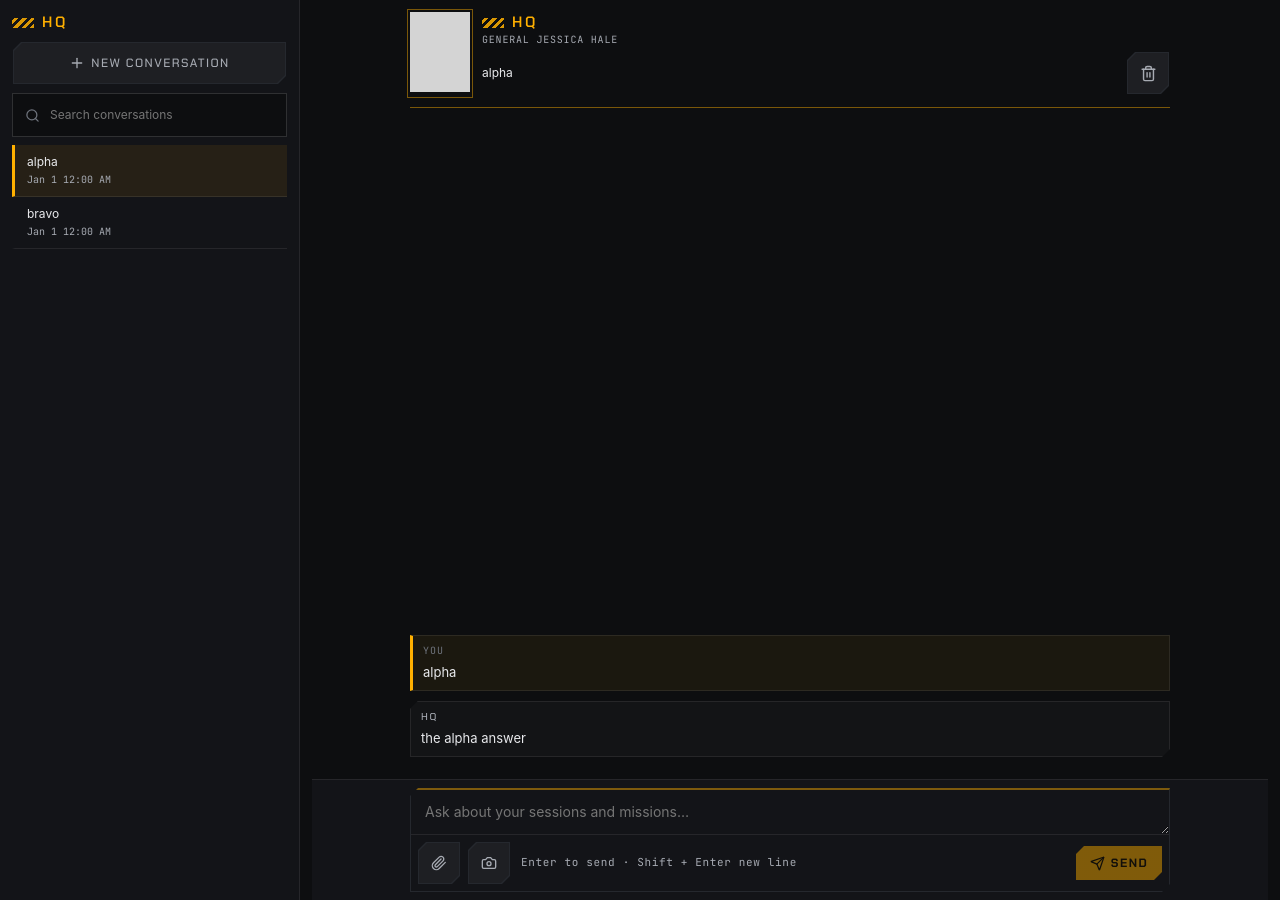
it: unsent text stays with its conversation: a pick, New and coming back never carry it across
Expected: the text "the alpha answer" is shown, [421,730,526,746]
In the text box with test id "composer-input": (790, 812) [411,790,1169,834], type "private draft for alpha"
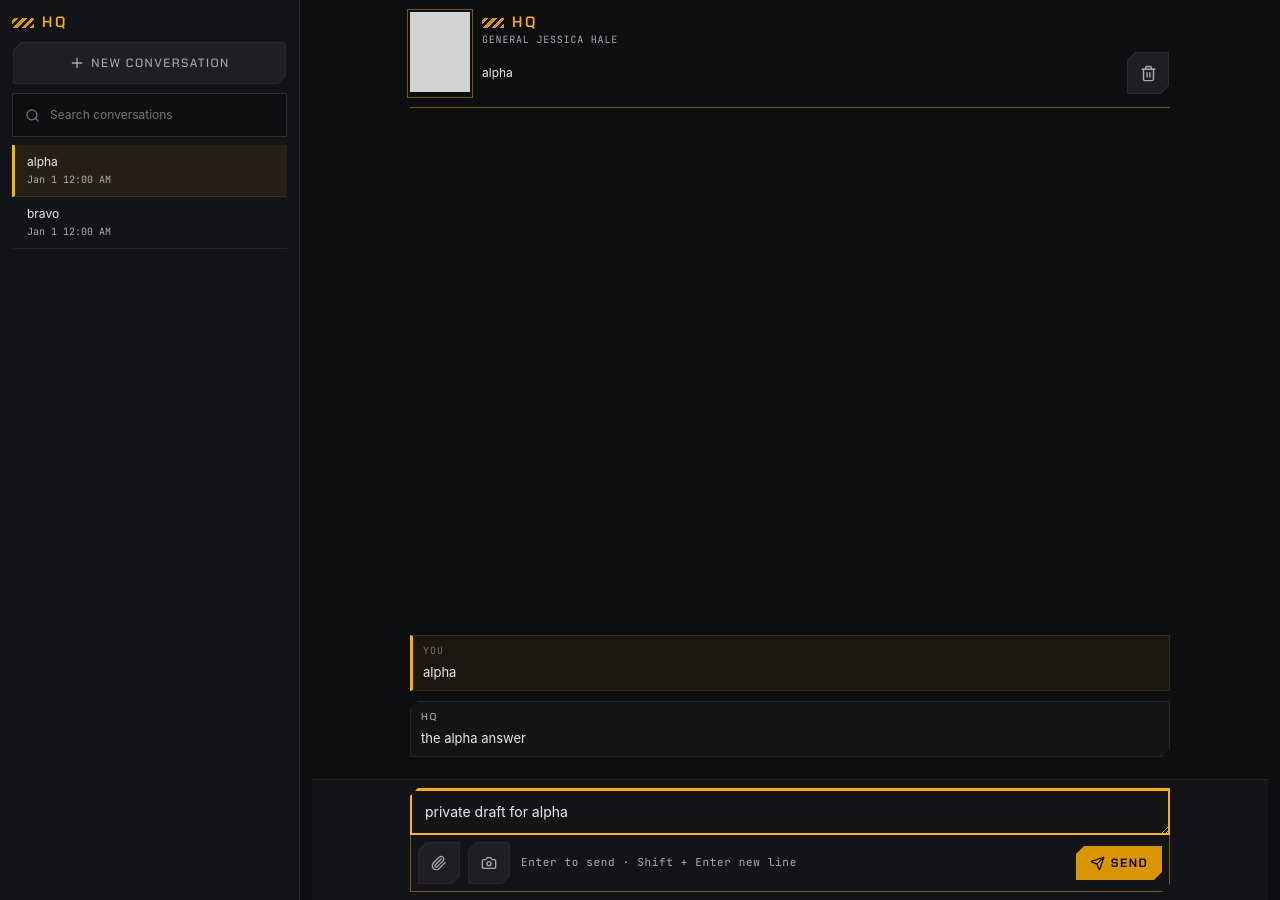
Click the text "bravo": (43, 214) [27,206,59,221]
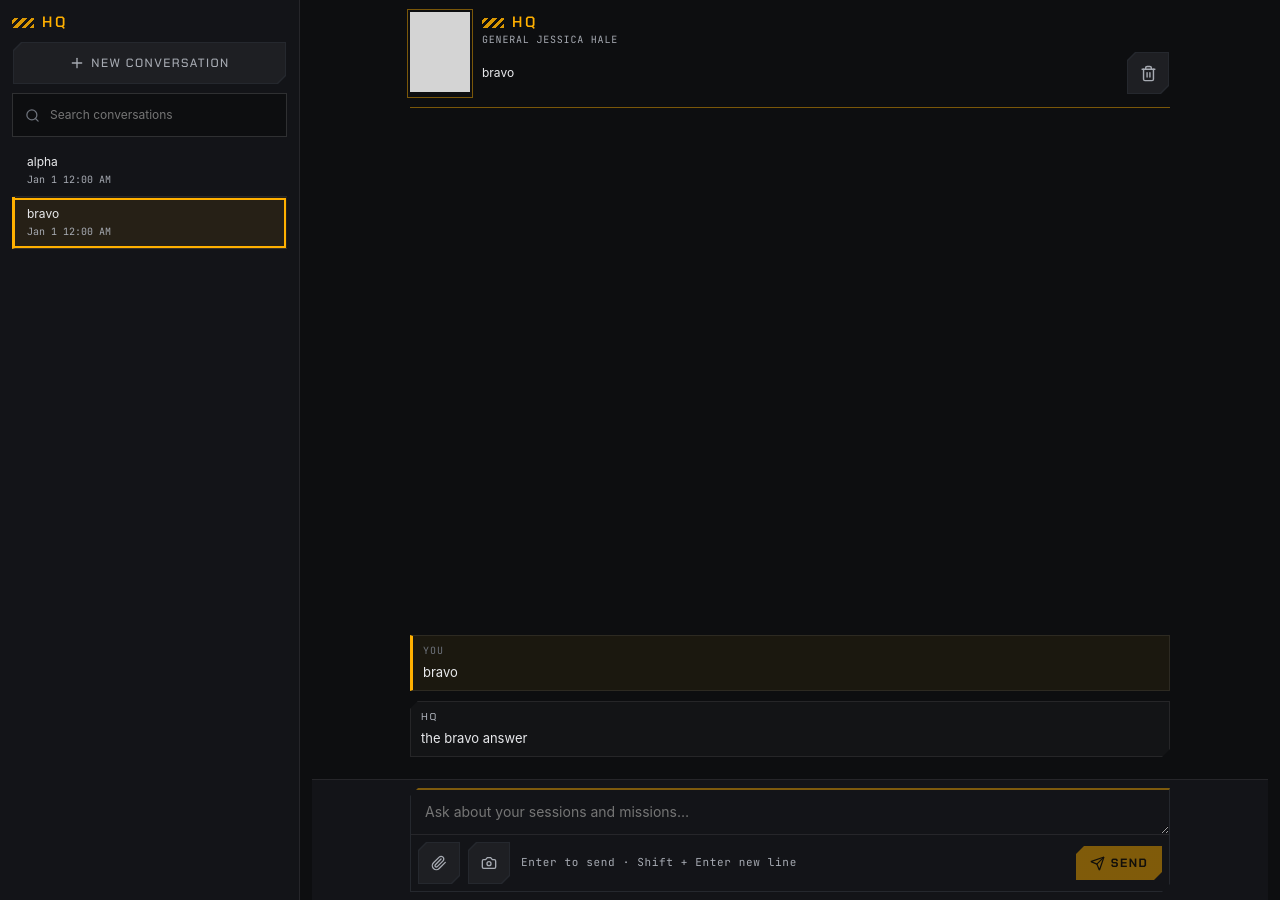
Expected: the text "the bravo answer" is shown, [421,730,527,746]
Expected: the text box with test id "composer-input" is empty
In the text box with test id "composer-input": (790, 812) [411,790,1169,834], type "bravo's own"
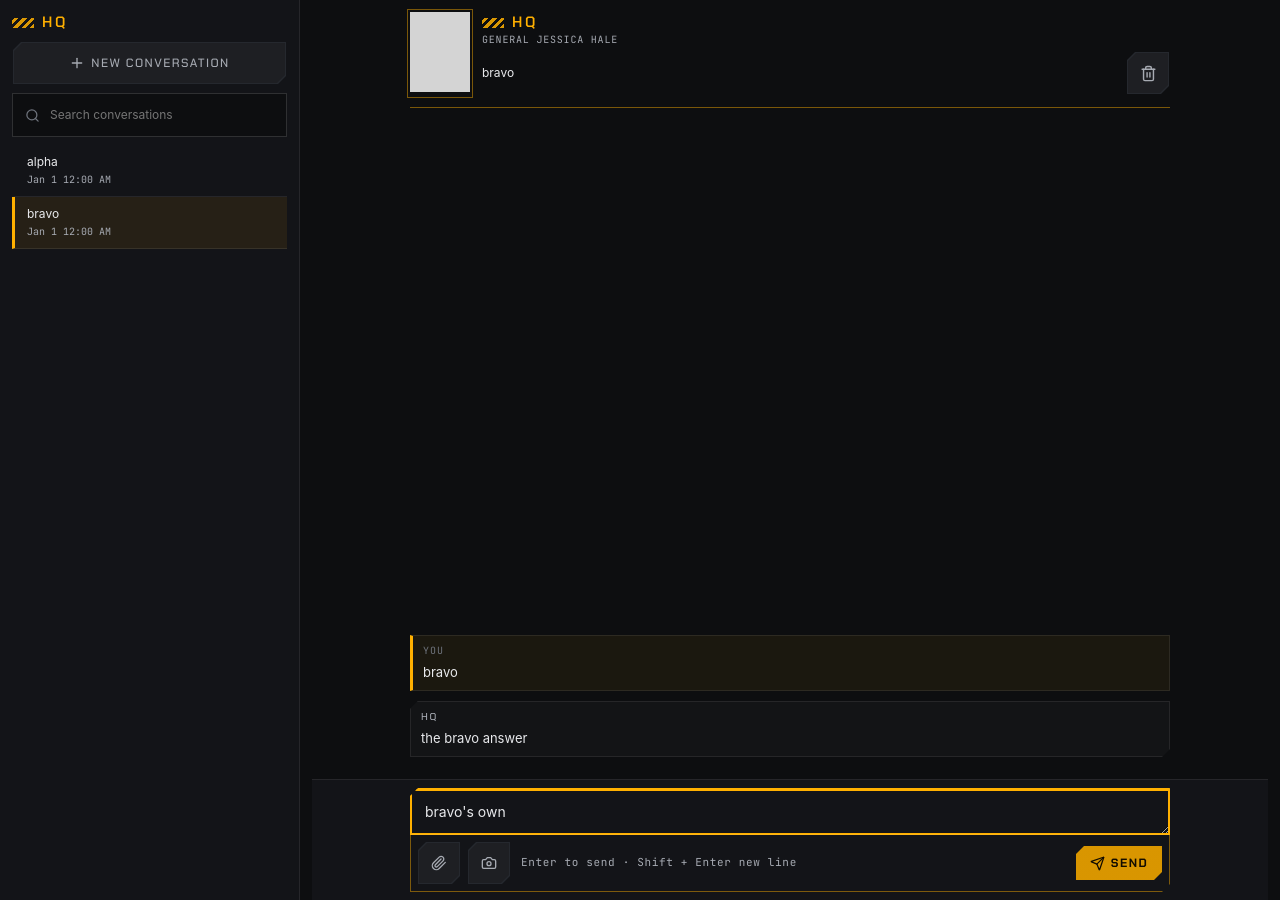
Click the link with test id "hq-new": (149, 63) [69,55,230,71]
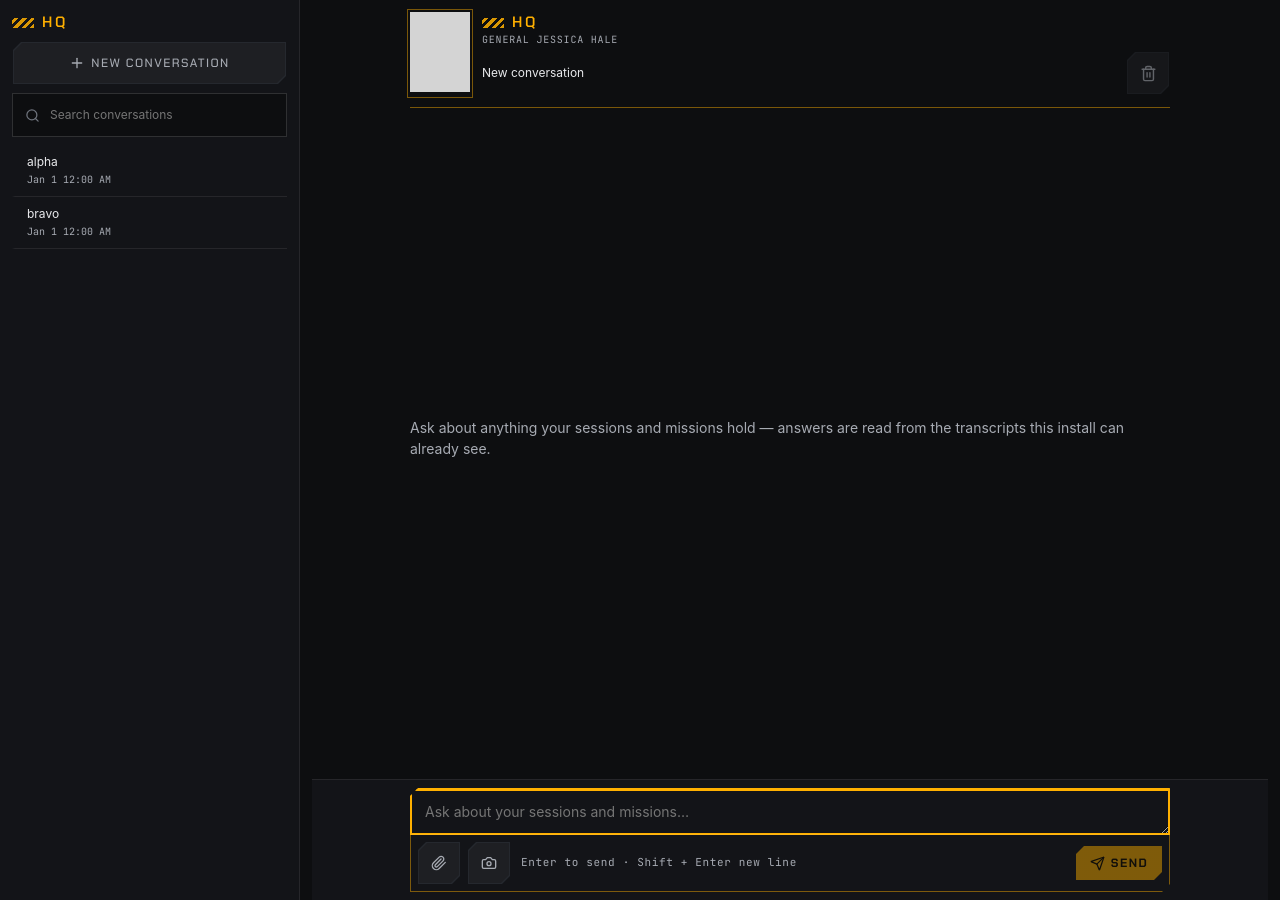
Expected: the text "the bravo answer" is gone
Expected: the text box with test id "composer-input" is empty, [411,790,1169,834]
Click the text "alpha": (42, 162) [27,154,58,169]
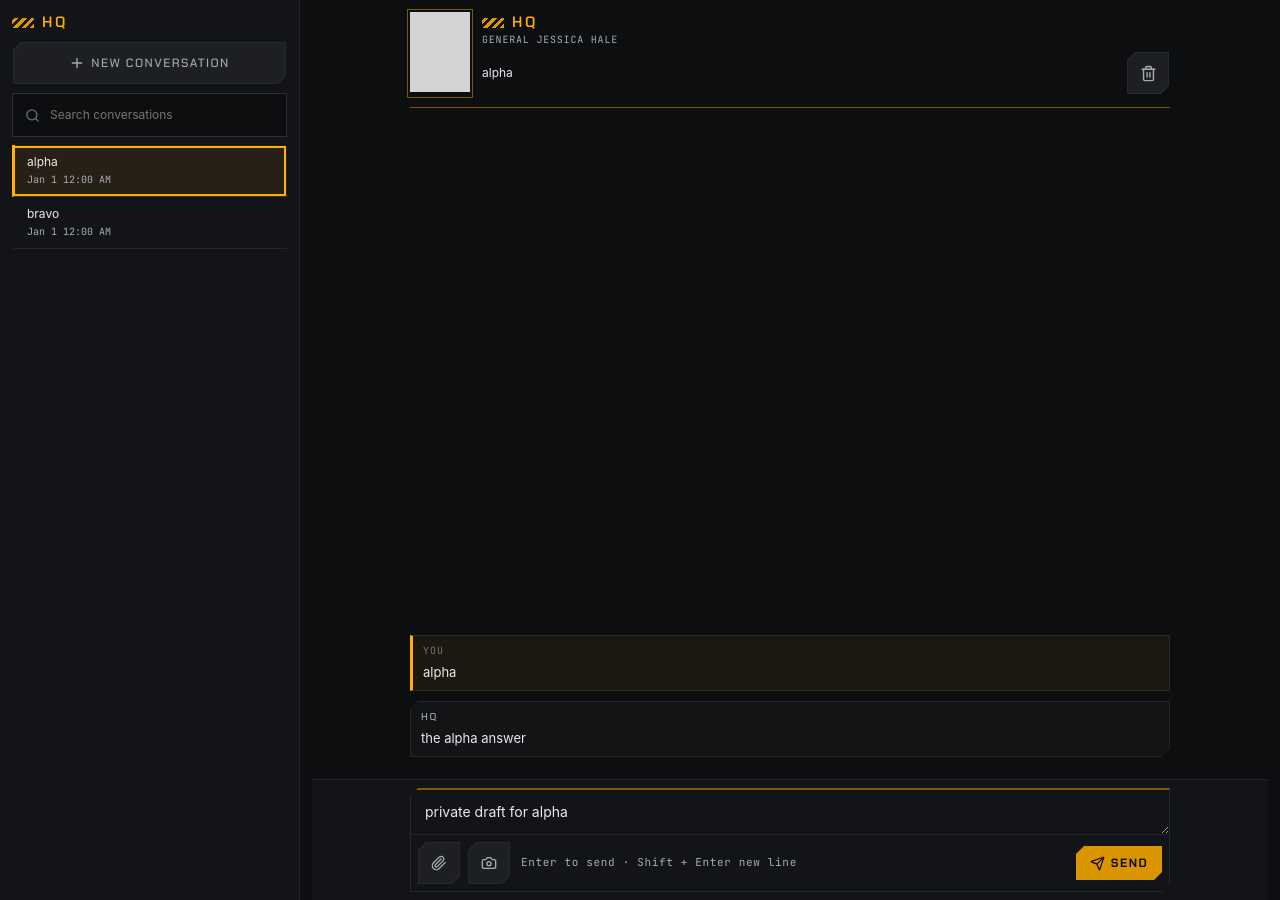
Expected: the text "the alpha answer" is shown, [421,730,526,746]
Click the text "bravo": (43, 214) [27,206,59,221]
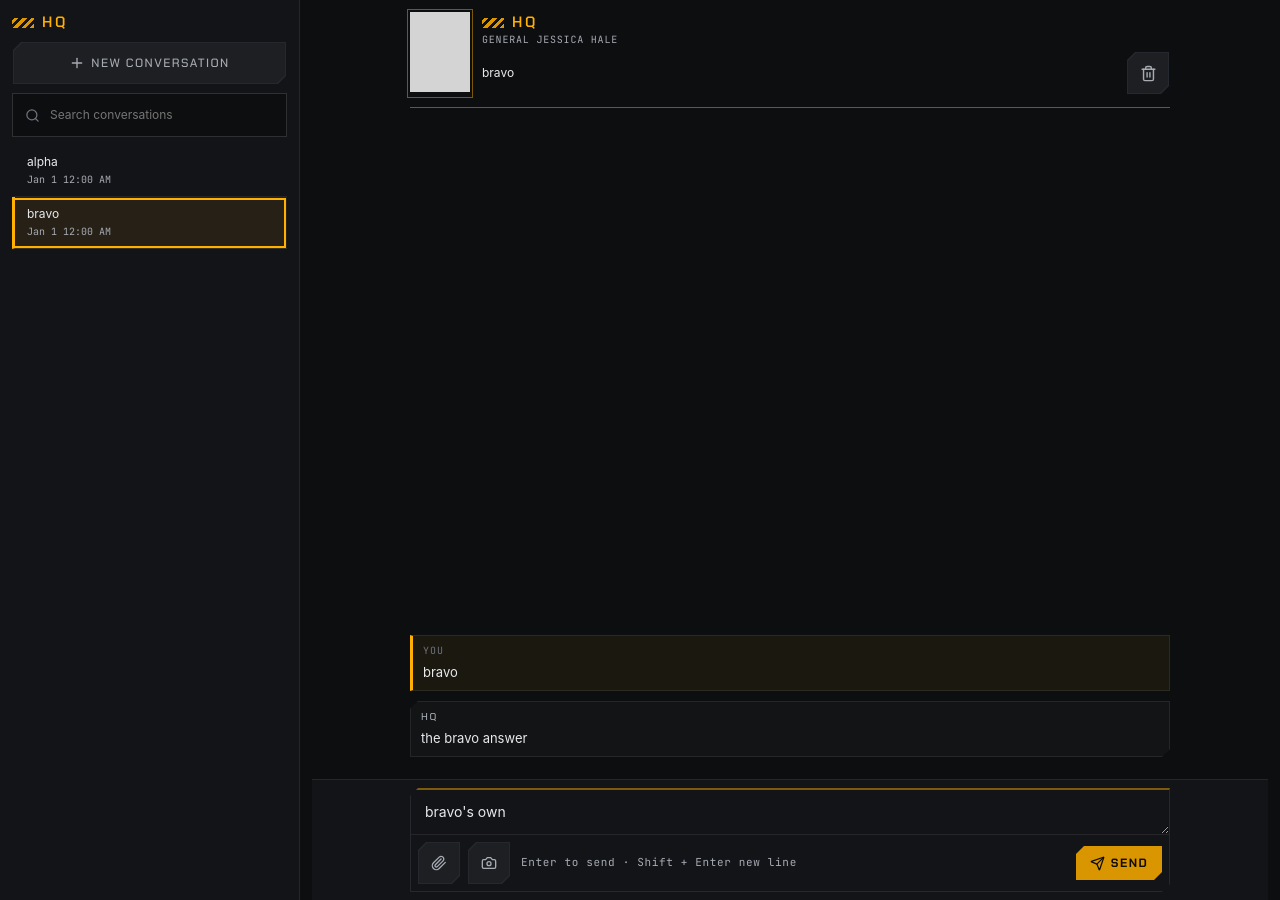
Expected: the text "the bravo answer" is shown, [421,730,527,746]
